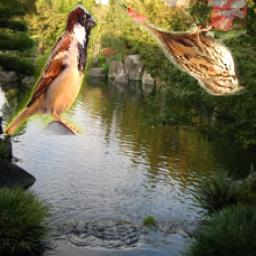Sparrow: (114, 0, 247, 97), (5, 3, 99, 135)
